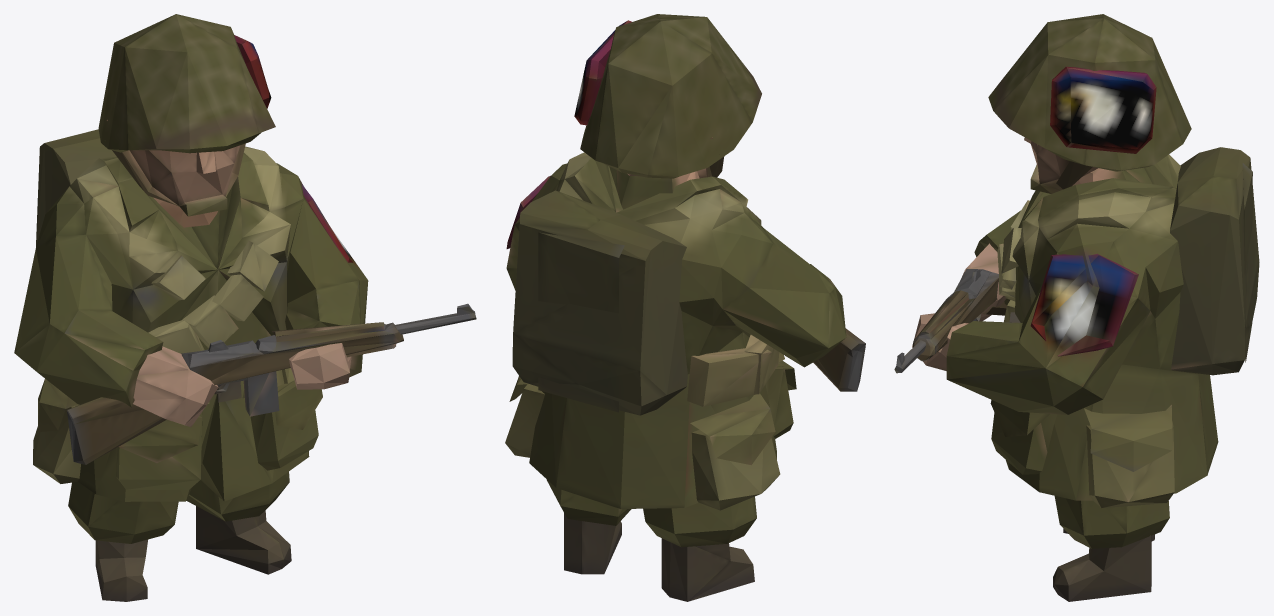
File: bulge_us_airborne_1.glb
The picture shows the model from 3 angles, left to right: view 1: azimuth 30°, elevation 25°; view 2: azimuth 150°, elevation 25°; view 3: azimuth 270°, elevation 25°; orthographic projection. The views are drawn at different scales.
Visible parts, largest first — view 1: bulge_us_airborne.glb; view 2: bulge_us_airborne.glb; view 3: bulge_us_airborne.glb.
Part boxes in pixels (bbox=[...]): bulge_us_airborne.glb: bbox=[14, 14, 476, 601]; bulge_us_airborne.glb: bbox=[505, 14, 865, 601]; bulge_us_airborne.glb: bbox=[894, 14, 1259, 601].
Bounding box in the file's own units: 0.2191 × 0.324 × 0.199.
1 material, 1 textured.
